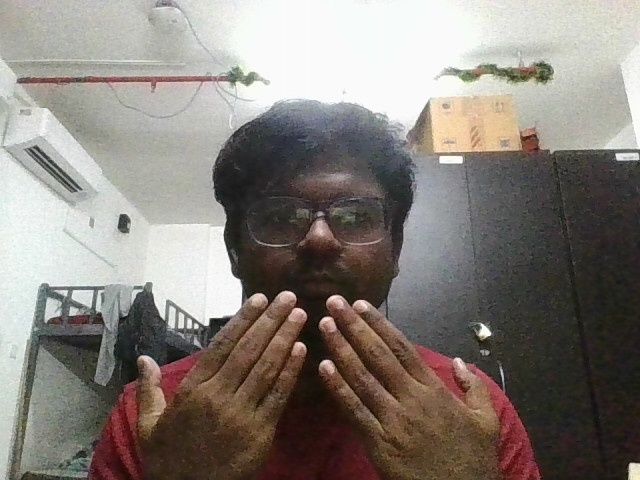Thanks: (124, 280, 516, 480)
